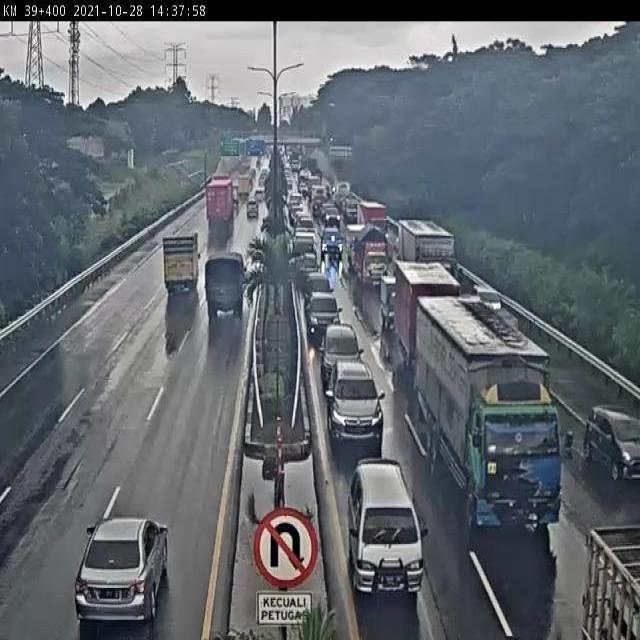big truck: (436, 343, 592, 576), (388, 255, 456, 369), (401, 216, 459, 296), (206, 250, 249, 326), (207, 176, 239, 228)
car: (349, 447, 432, 624), (78, 523, 175, 636), (322, 356, 390, 453), (585, 396, 640, 495), (315, 322, 368, 374), (309, 287, 343, 341), (466, 277, 504, 312), (306, 262, 331, 306), (321, 227, 346, 269), (296, 248, 325, 281), (245, 199, 262, 221)
small truck: (161, 225, 203, 295), (374, 269, 408, 332), (357, 232, 389, 284)
